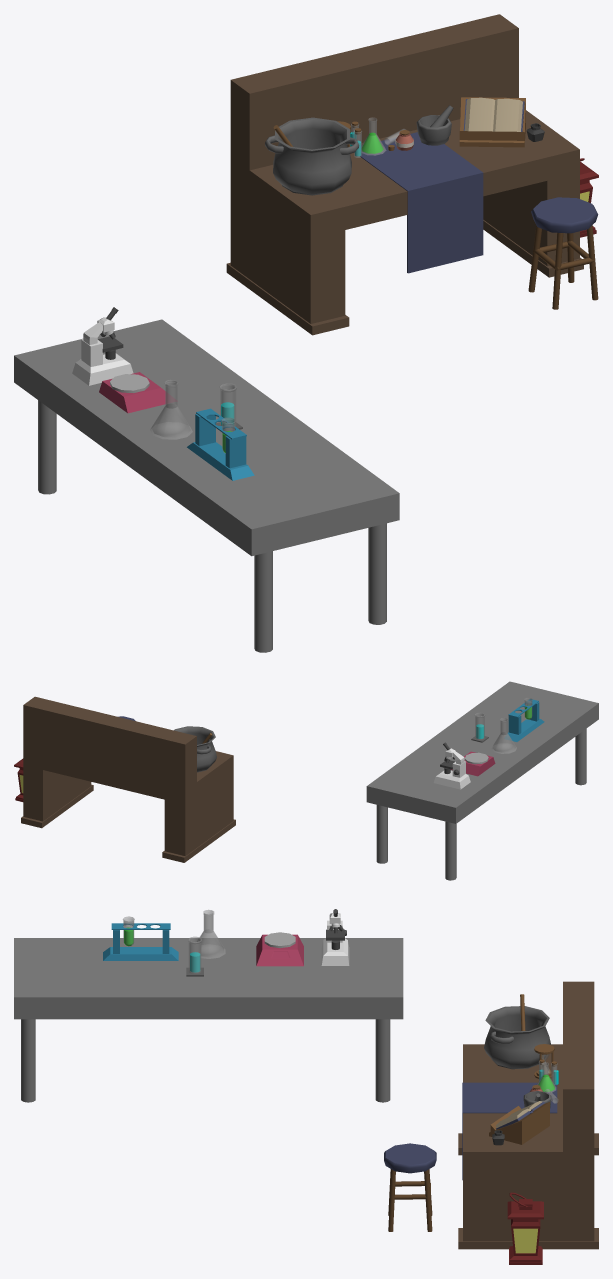
Rendered from Lab Assets.fbx.
3 views of the same model, one above another, from view 1: azimuth 30°, elevation 25°; view 2: azimuth 150°, elevation 25°; view 3: azimuth 270°, elevation 25° (orthographic). The views are drawn at different scales.
Visible parts, largest first — view 1: pCube24, pCylinder18, pCube35, pCylinder20, pCylinder51, pCube14, pCube21, pCube27, pCube16, pCube30, Beaker; view 2: pCube24, pCylinder18, pCube21, pCube14, pCylinder20, pCube16, Beaker, pCube23; view 3: pCylinder18, pCube24, pCylinder20, pCylinder51, pCube35, pCube38, pCube14, pCube16, pCube30, pCube21, Beaker, pCube23.
Part boxes in pixels (x1=…): pCube24: x1=226, y1=14, x2=583, y2=335; pCylinder18: x1=14, y1=319, x2=399, y2=652; pCube35: x1=360, y1=132, x2=483, y2=273; pCylinder20: x1=265, y1=117, x2=359, y2=195; pCylinder51: x1=528, y1=197, x2=598, y2=309; pCube14: x1=187, y1=408, x2=254, y2=480; pCube21: x1=72, y1=307, x2=133, y2=385; pCube27: x1=463, y1=97, x2=524, y2=131; pCube16: x1=99, y1=372, x2=177, y2=413; pCube30: x1=459, y1=97, x2=525, y2=147; Beaker: x1=150, y1=379, x2=192, y2=439; pCube24: x1=21, y1=696, x2=235, y2=862; pCylinder18: x1=366, y1=681, x2=598, y2=880; pCube21: x1=433, y1=742, x2=470, y2=789; pCube14: x1=504, y1=699, x2=544, y2=741; pCylinder20: x1=174, y1=726, x2=216, y2=772; pCube16: x1=450, y1=751, x2=495, y2=776; Beaker: x1=491, y1=718, x2=516, y2=753; pCube23: x1=471, y1=712, x2=488, y2=742; pCylinder18: x1=14, y1=938, x2=403, y2=1102; pCube24: x1=458, y1=981, x2=598, y2=1249; pCylinder20: x1=484, y1=1006, x2=551, y2=1069; pCylinder51: x1=384, y1=1143, x2=436, y2=1231; pCube35: x1=462, y1=1082, x2=557, y2=1180; pCube38: x1=507, y1=1192, x2=543, y2=1264; pCube14: x1=103, y1=923, x2=178, y2=960; pCube16: x1=256, y1=932, x2=303, y2=966; pCube30: x1=489, y1=1102, x2=549, y2=1144; pCube21: x1=321, y1=909, x2=349, y2=965; Beaker: x1=197, y1=909, x2=225, y2=958; pCube23: x1=186, y1=936, x2=203, y2=976.
Size of the model in its own units: 8.6 by 3.05 by 8.2.
